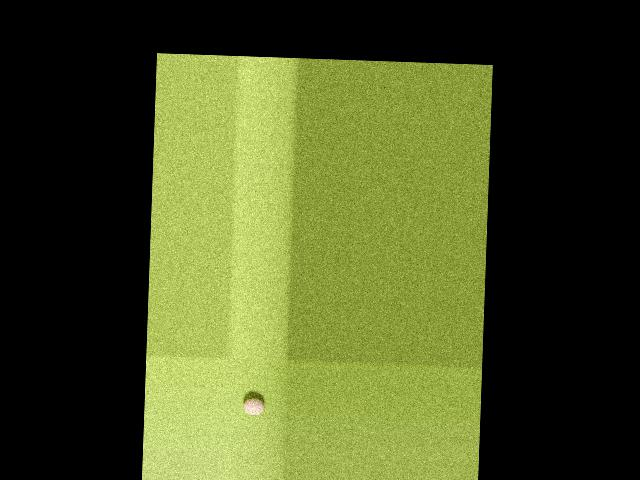egg: (243, 397, 265, 414)
